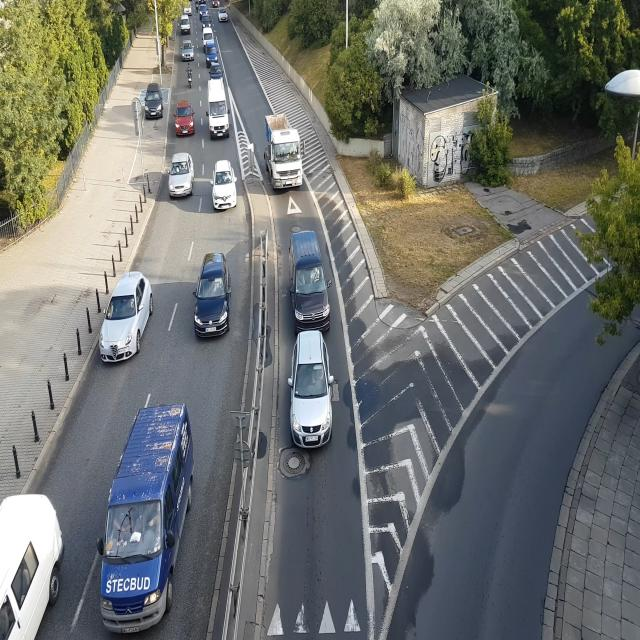car: (100, 401, 192, 640), (0, 500, 64, 640), (288, 327, 340, 462), (94, 268, 156, 358), (283, 235, 334, 335), (194, 249, 230, 343), (206, 77, 235, 150), (212, 156, 239, 213), (168, 149, 198, 200), (142, 80, 166, 122), (173, 98, 197, 139), (205, 42, 218, 64), (182, 38, 194, 61), (210, 63, 223, 81), (180, 15, 191, 35), (203, 28, 215, 46), (218, 8, 228, 23), (201, 15, 212, 28), (199, 5, 208, 16), (184, 2, 191, 14), (212, 0, 220, 7), (199, 0, 206, 4)
motorcycle: (186, 59, 196, 89), (195, 0, 199, 14)
truck: (264, 106, 304, 194)
